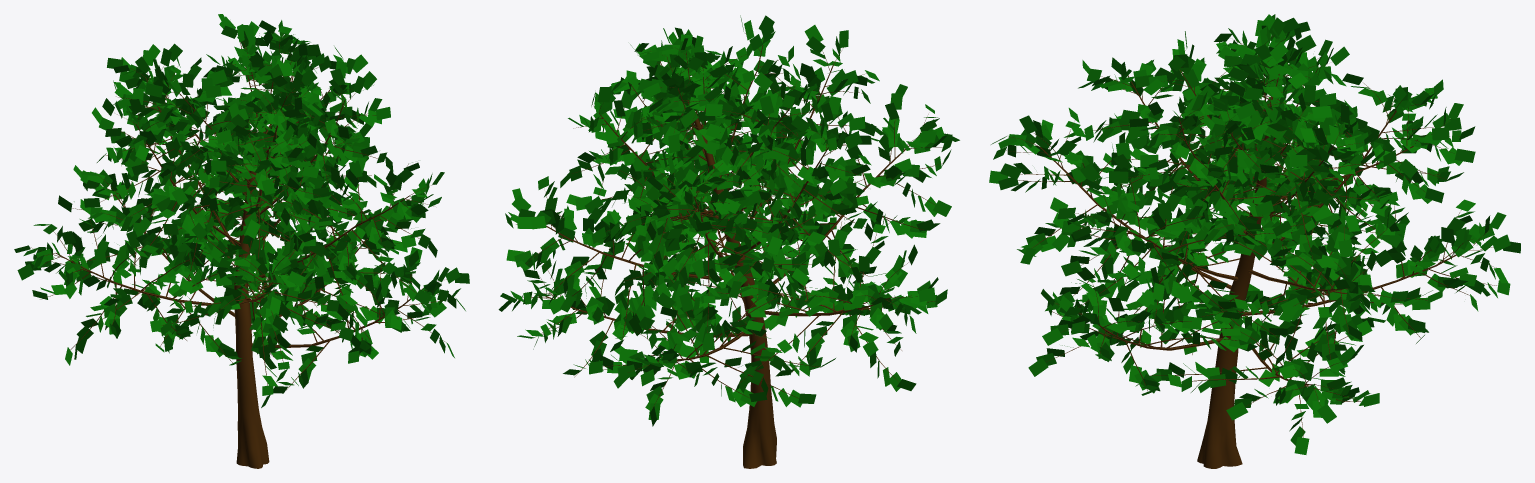
The model's file is Baum1 Neu.FBX.
3 renders of one model, left to right at view 1: azimuth 30°, elevation 25°; view 2: azimuth 150°, elevation 25°; view 3: azimuth 270°, elevation 25°, orthographic. The views are drawn at different scales.
Parts seen in each view (by area): view 1: Foliage015; view 2: Foliage015; view 3: Foliage015.
Boxes of the visible parts, left/top/right/bottom form: Foliage015: left=14, top=14, right=469, bottom=468; Foliage015: left=498, top=15, right=959, bottom=468; Foliage015: left=989, top=14, right=1520, bottom=468.
Size of the model in its own units: 1190 by 1208 by 1320.
